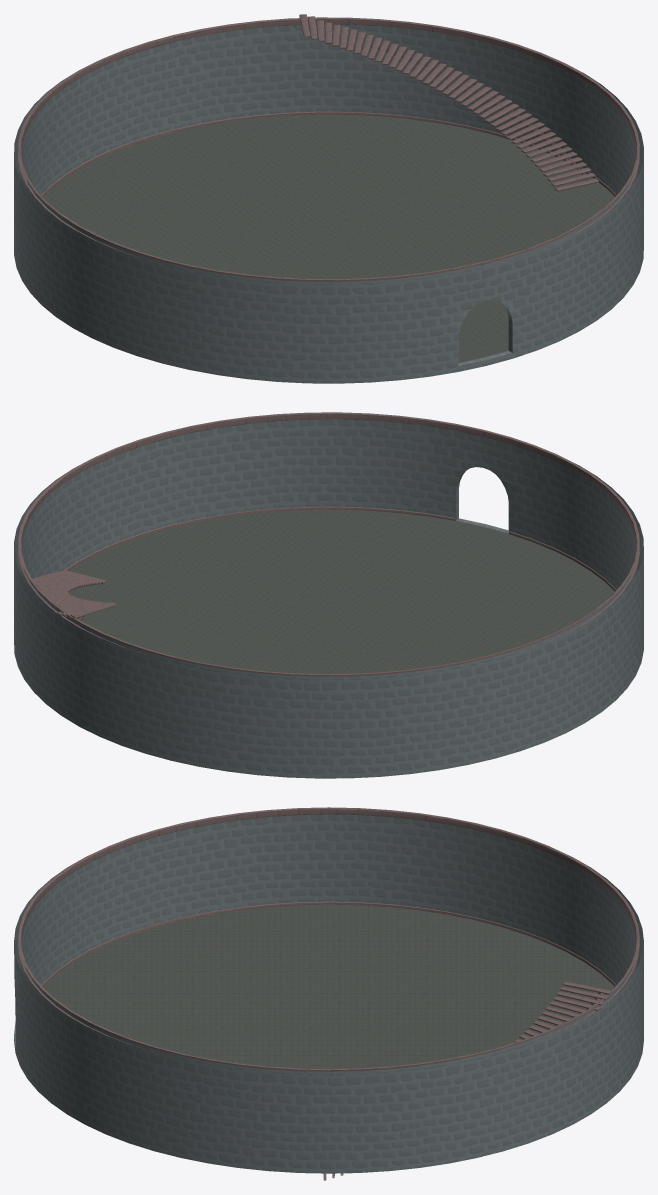
The model's file is towerBaseFloor.fbx.
3 renders of one model, top to bottom at view 1: azimuth 30°, elevation 25°; view 2: azimuth 150°, elevation 25°; view 3: azimuth 270°, elevation 25°, orthographic.
Parts seen in each view (by area): view 1: TowerBaseFloorFinal; view 2: TowerBaseFloorFinal; view 3: TowerBaseFloorFinal.
Boxes of the visible parts, x1,y1,x2,y2 form: TowerBaseFloorFinal: (14,14,643,383); TowerBaseFloorFinal: (14,412,643,778); TowerBaseFloorFinal: (14,807,643,1180).
Size of the model in its own units: 4900 by 971 by 4900.
